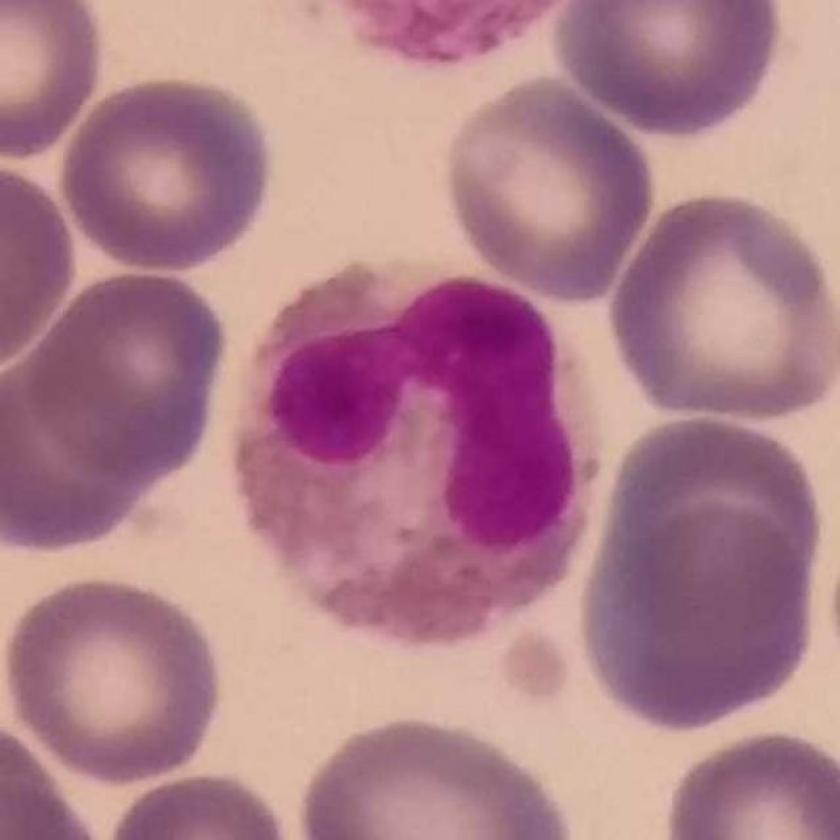eosinophil: (235, 248, 606, 648)
